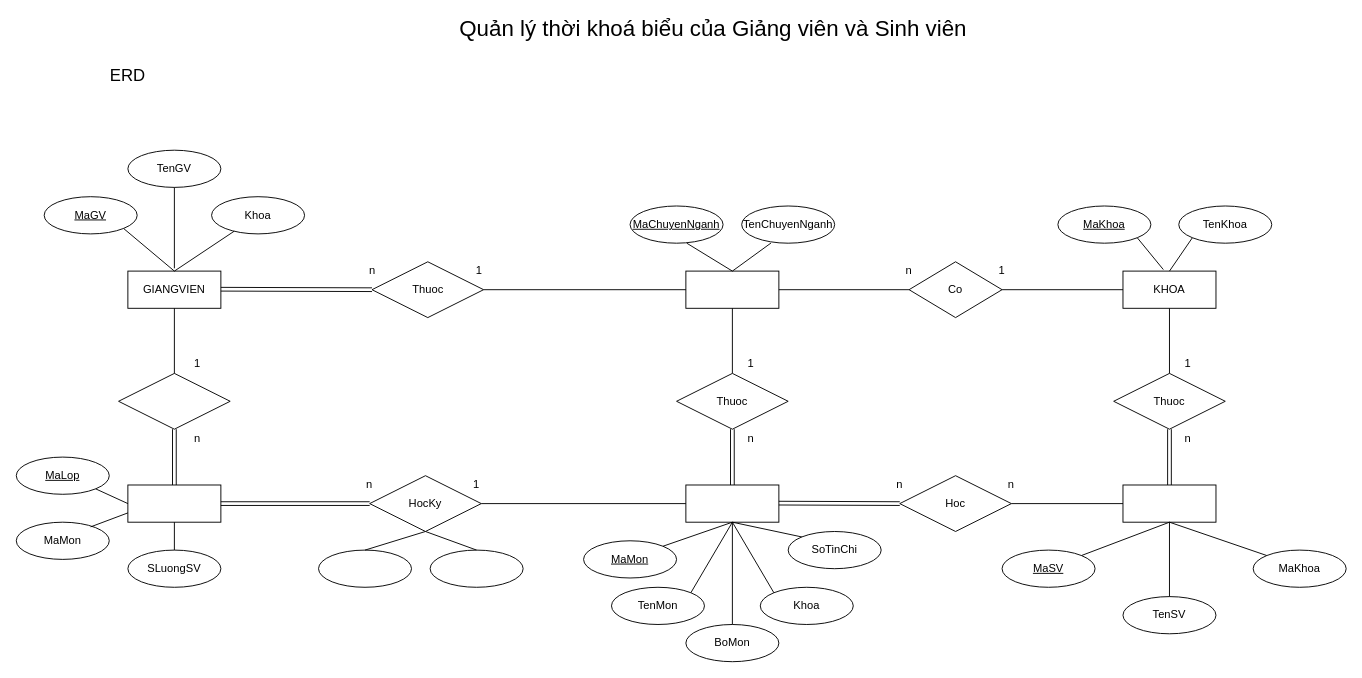
Image size: 1362x678. Some labels were removed from this diagram. The centre of each missing label's shape, as x and y in pixels:
CHUYENNGANH: point (732, 289)
Day: point (174, 400)
LOP: point (174, 503)
MaHK: point (365, 568)
MON: point (732, 503)
Nam: point (476, 568)
SINHVIEN: point (1169, 503)
